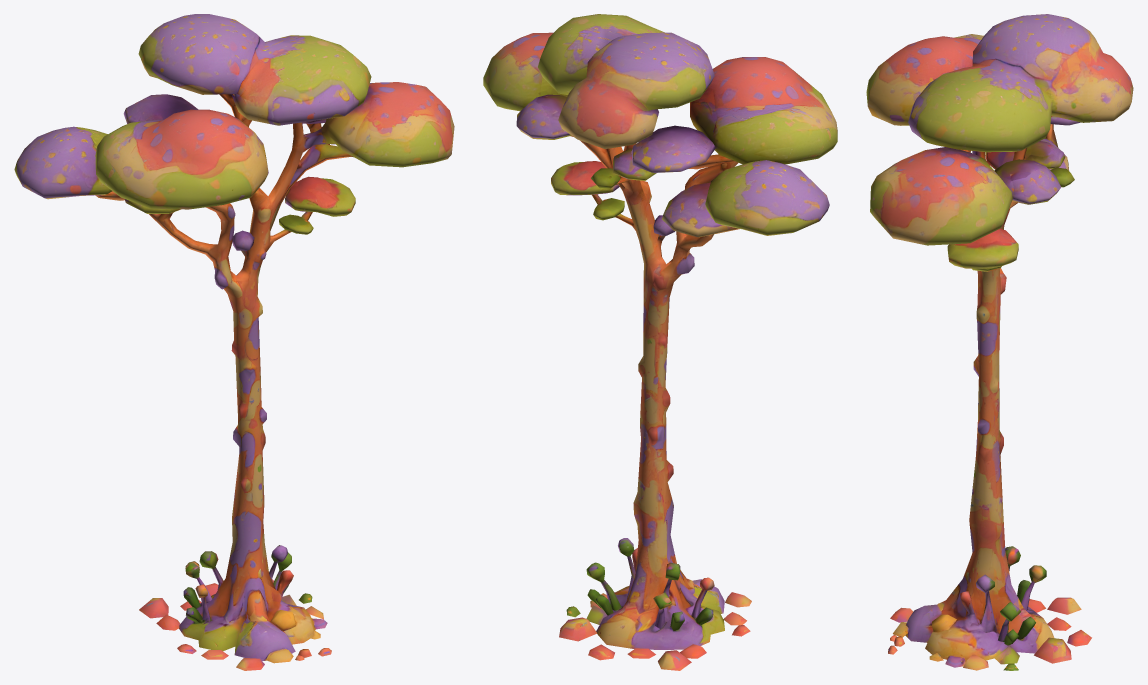
The model's file is alien_tree_03.glb.
The picture shows the model from 3 angles, left to right: view 1: azimuth 30°, elevation 25°; view 2: azimuth 150°, elevation 25°; view 3: azimuth 270°, elevation 25°; orthographic projection. The views are drawn at different scales.
Visible parts, largest first — view 1: tripo_node_0804a092-7a85-4763-b286-1333abdfaa41; view 2: tripo_node_0804a092-7a85-4763-b286-1333abdfaa41; view 3: tripo_node_0804a092-7a85-4763-b286-1333abdfaa41.
Boxes of the visible parts, left/top/right/bottom form: tripo_node_0804a092-7a85-4763-b286-1333abdfaa41: left=14, top=14, right=454, bottom=670; tripo_node_0804a092-7a85-4763-b286-1333abdfaa41: left=483, top=14, right=837, bottom=670; tripo_node_0804a092-7a85-4763-b286-1333abdfaa41: left=866, top=14, right=1133, bottom=670.
Size of the model in its own units: 0.6567 by 0.9995 by 0.4009.
Materials: 1 (1 with a texture image).
